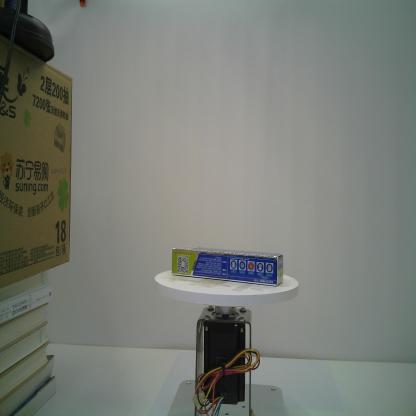Personal Hygiene: (171, 247, 284, 287)
